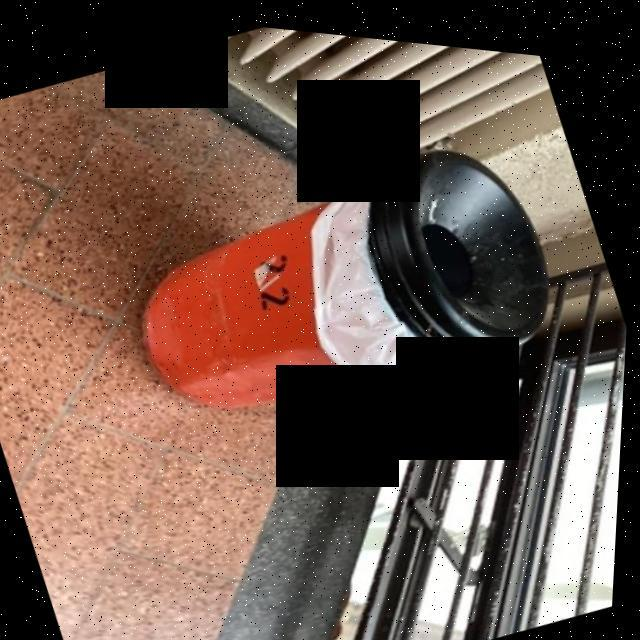bin: (71, 46, 639, 502)
